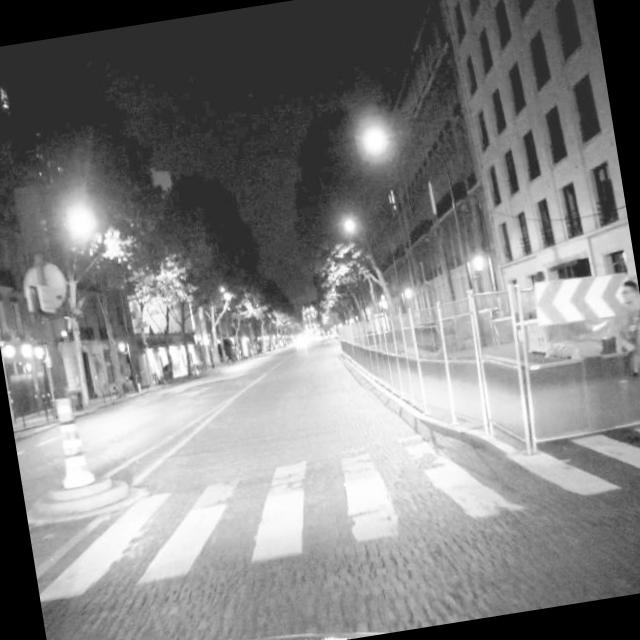Sign: (532, 269, 634, 326), (19, 258, 71, 316)
